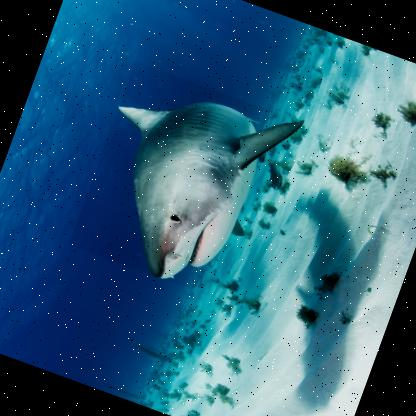tiger-shark: (69, 59, 304, 304)
